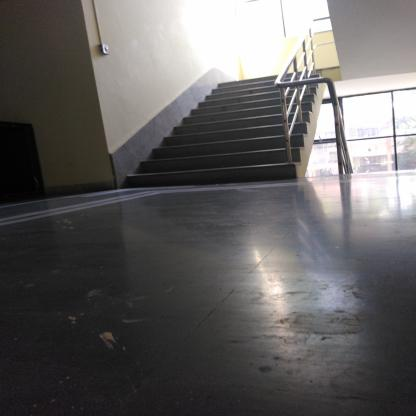stairs: (217, 81, 274, 186)
